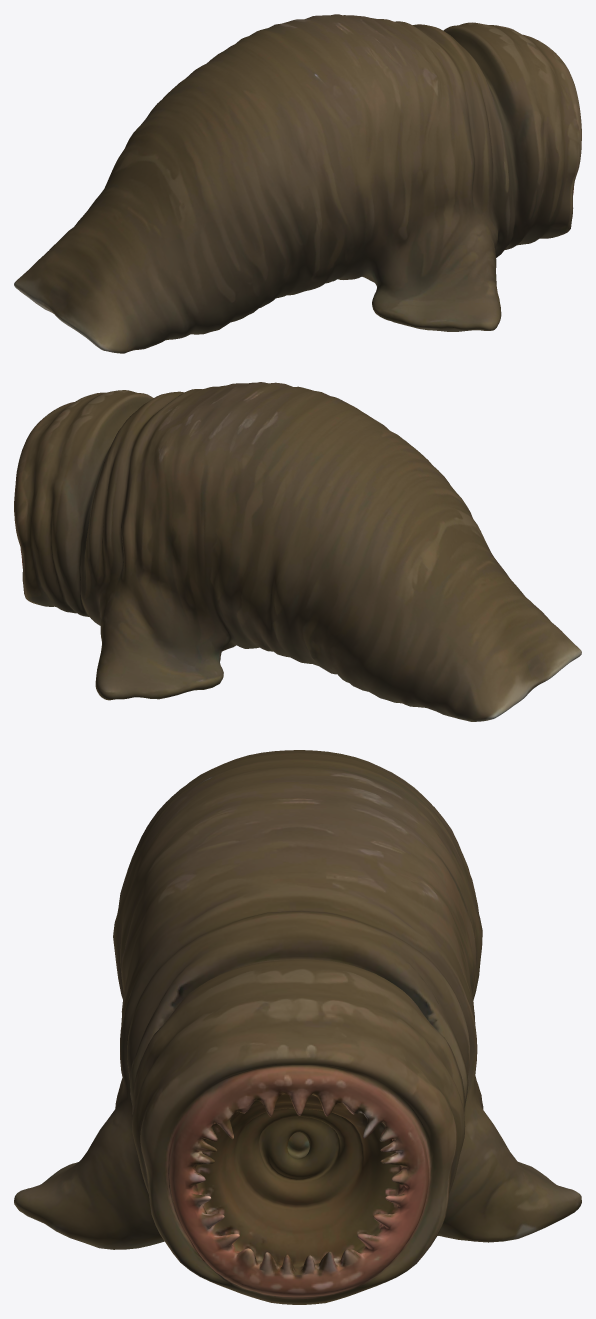
Rendered from HELL LEECH.fbx.
The picture shows the model from 3 angles, top to bottom: view 1: azimuth 30°, elevation 25°; view 2: azimuth 150°, elevation 25°; view 3: azimuth 270°, elevation 25°; orthographic projection. The views are drawn at different scales.
Visible parts, largest first — view 1: tripo_node_951cde25; view 2: tripo_node_951cde25; view 3: tripo_node_951cde25.
Boxes of the visible parts, x1,y1,x2,y2 form: tripo_node_951cde25: (14,14,581,353); tripo_node_951cde25: (14,382,581,721); tripo_node_951cde25: (14,750,581,1304).
Size of the model in its own units: 99.87 by 51.59 by 65.91.
Materials: 1 (1 with a texture image).
